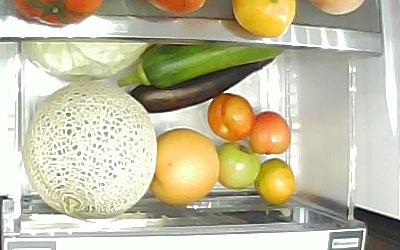cabbage: (23, 41, 147, 82)
eggplant: (128, 55, 277, 115)
melon: (21, 81, 157, 220)
pear: (149, 128, 220, 206)
prune: (206, 92, 255, 143)
tangerine: (256, 159, 297, 206)
tomato: (218, 142, 261, 190), (251, 110, 292, 156)
zucchini: (120, 44, 285, 87)
